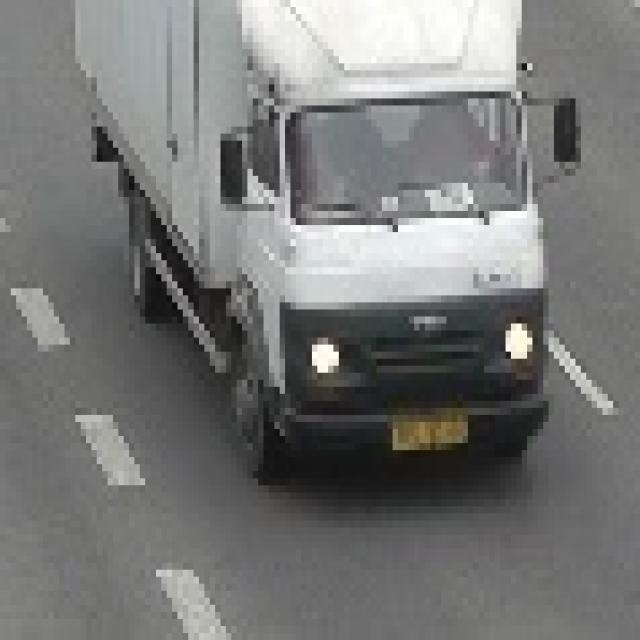Truck: (86, 0, 586, 471)
